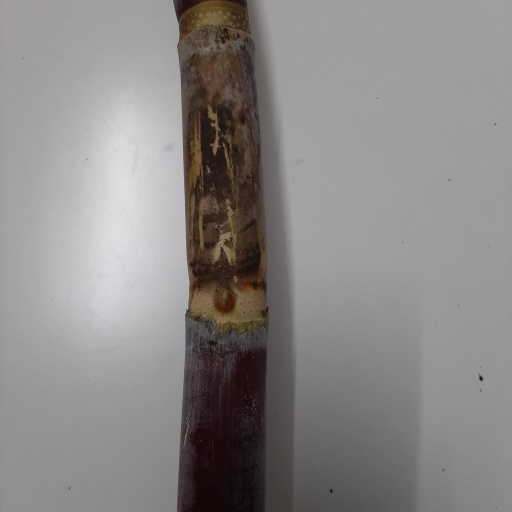Bud: (212, 282, 238, 315)
